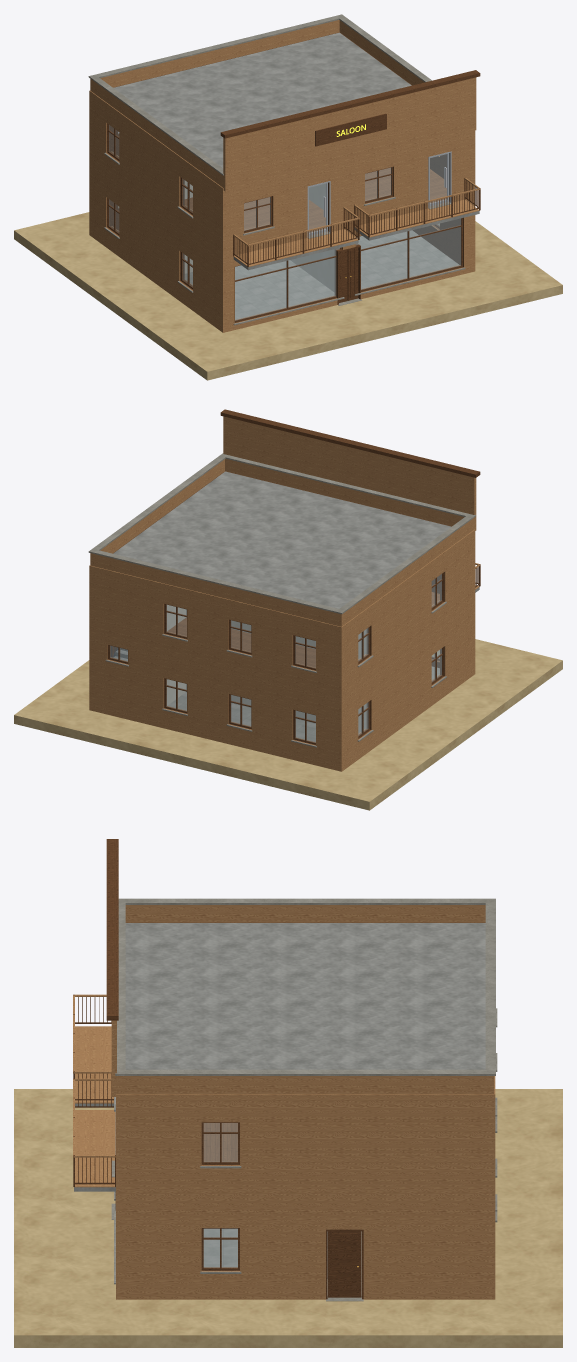
File: b_western_saloon.gltf
3 views of the same model, one above another, from view 1: azimuth 30°, elevation 25°; view 2: azimuth 150°, elevation 25°; view 3: azimuth 270°, elevation 25° (orthographic). The views are drawn at different scales.
Parts seen in each view (by area): view 1: S_western_saloon, D_western_saloon_F2_S3_Door0, D_western_saloon_F2_S1_Door0, D_western_saloon_F1_S2_Door1; view 2: S_western_saloon; view 3: S_western_saloon, D_western_saloon_F1_E1_Door0.
Boxes of the visible parts, x1,y1,x2,y2 form: S_western_saloon: (14, 14, 562, 380); D_western_saloon_F2_S3_Door0: (429, 153, 448, 206); D_western_saloon_F2_S1_Door0: (308, 182, 327, 235); D_western_saloon_F1_S2_Door1: (347, 247, 358, 300); S_western_saloon: (14, 409, 562, 810); S_western_saloon: (14, 839, 562, 1347); D_western_saloon_F1_E1_Door0: (328, 1231, 361, 1297).
Bounding box in the file's own units: 17 × 9.55 × 16.
Materials: 18 (10 with a texture image).
